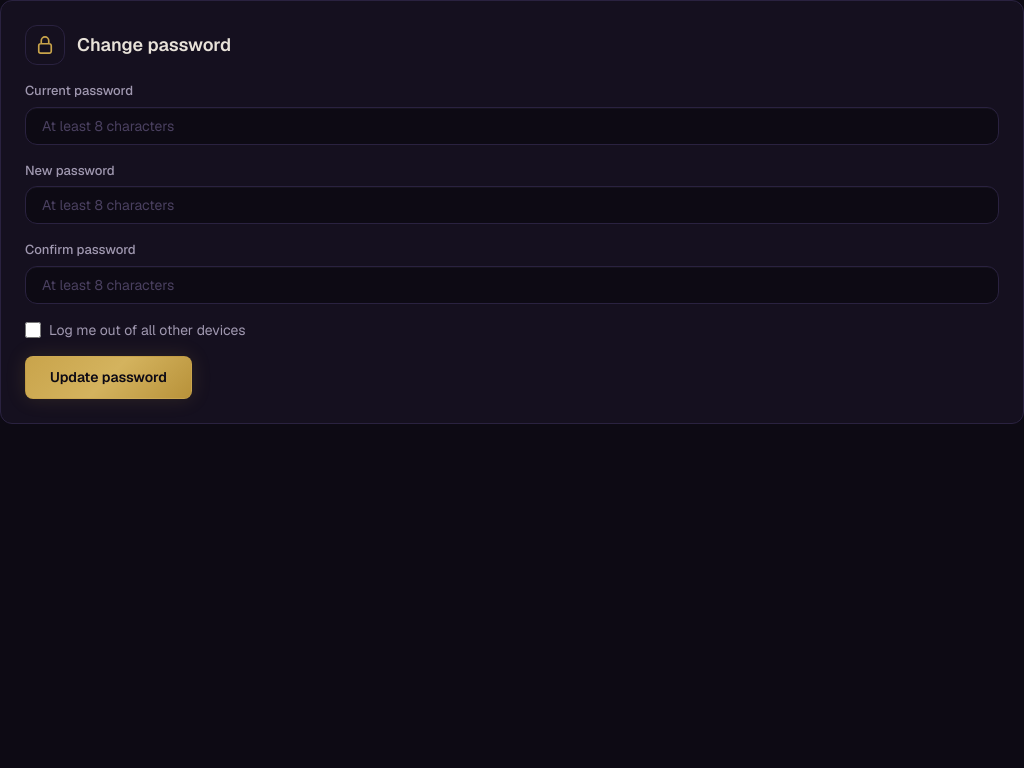
Scenario: ChangePasswordSettings › rejects a password that fails the strength rules
Type "OldPass123!" into the password field labelled "Current password".
click(512, 126); type("OldPass123!")  # box [25, 106, 999, 145]
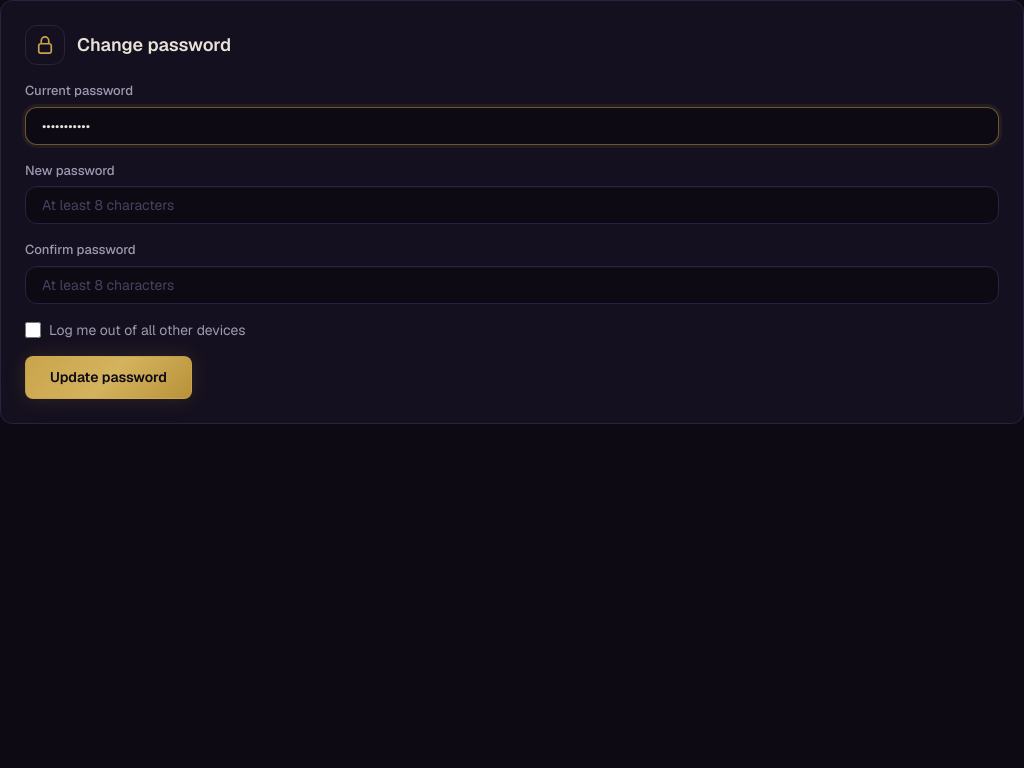
Type "abcdefgh" into the password field labelled "New password".
click(512, 205); type("abcdefgh")  # box [25, 186, 999, 224]
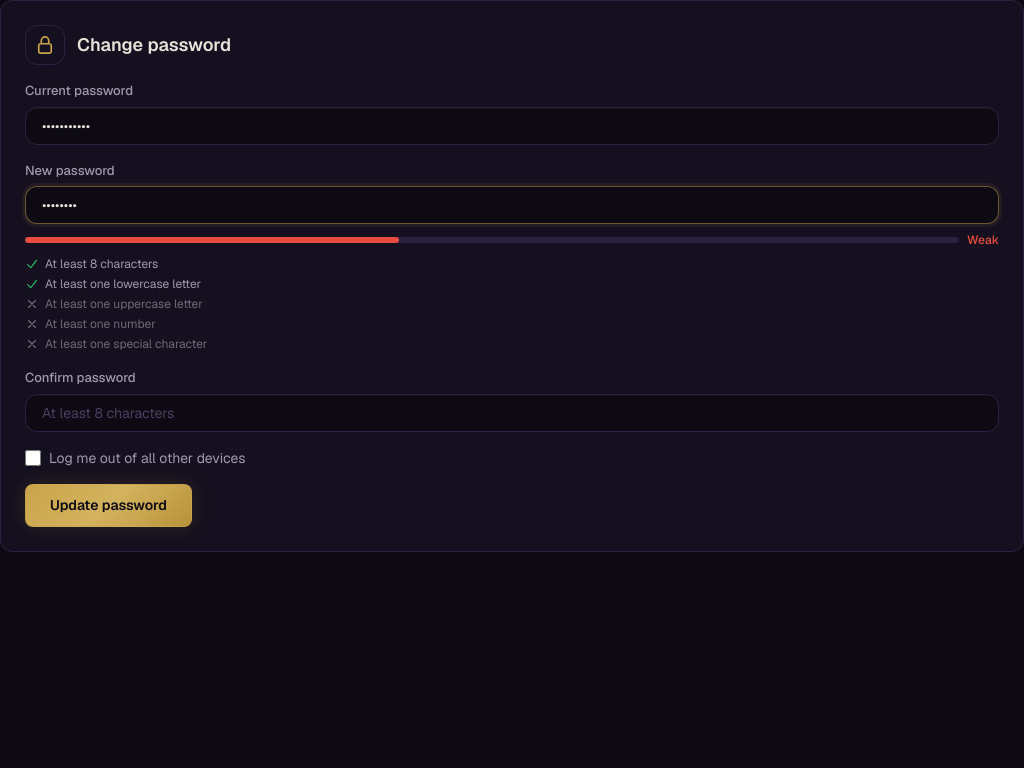
Type "abcdefgh" into the password field labelled "Confirm password".
click(512, 413); type("abcdefgh")  # box [25, 394, 999, 432]
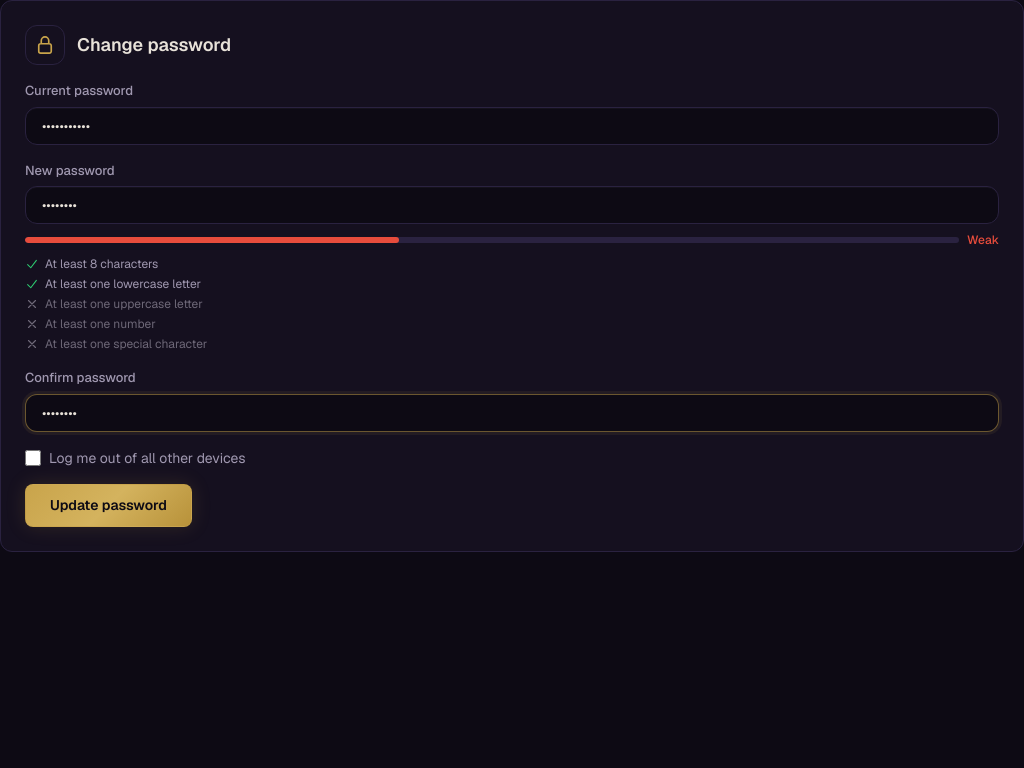
Click the button "Update password".
click(108, 505)  # box [25, 484, 192, 527]
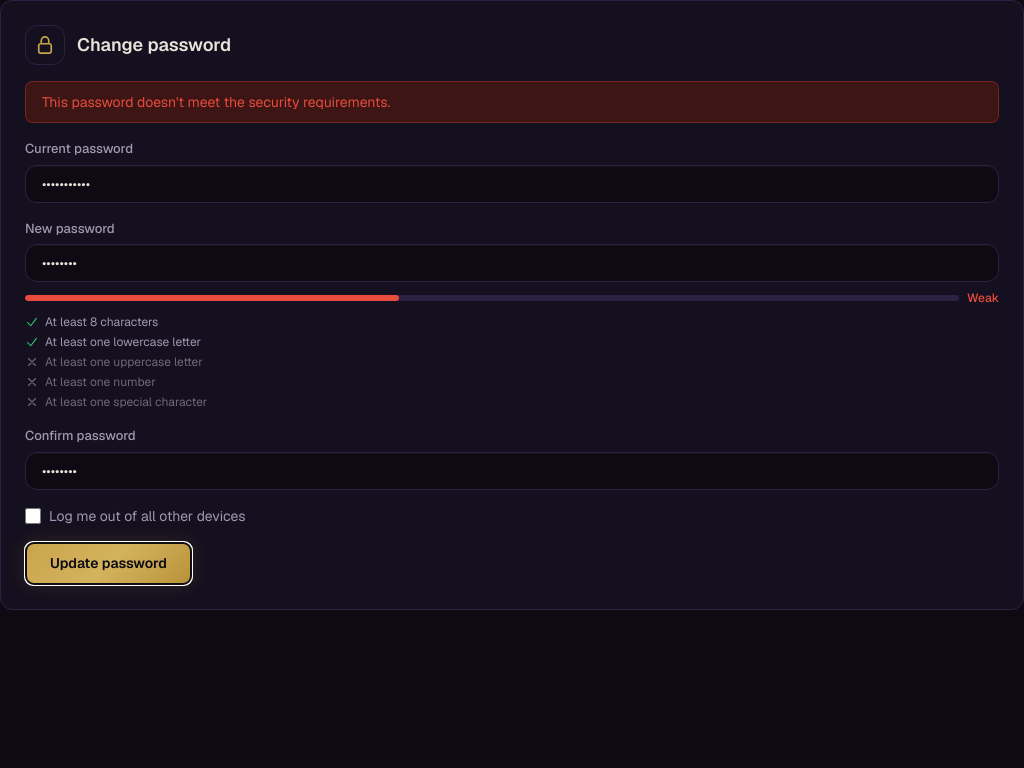
Expected: the text "This password doesn't meet the security requirements." is shown, [25, 81, 999, 123]
